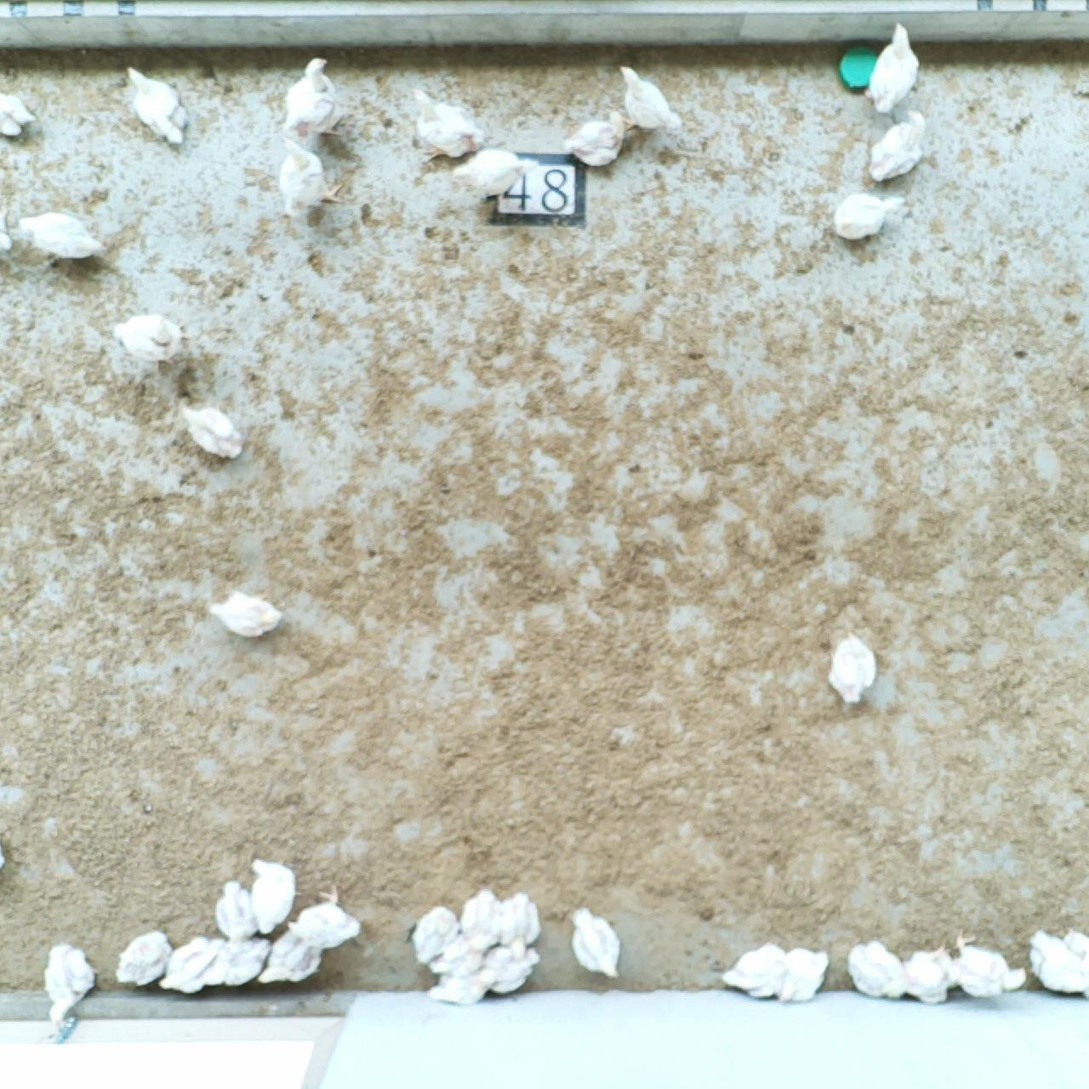chicken: (410, 84, 486, 165), (280, 54, 348, 140), (276, 134, 340, 222), (863, 21, 922, 116), (950, 929, 1029, 998), (124, 63, 190, 145), (40, 940, 98, 1029), (14, 208, 110, 260), (447, 145, 539, 198), (867, 107, 929, 183), (290, 886, 362, 951), (1026, 926, 1089, 1000), (618, 64, 684, 132), (112, 310, 192, 365), (159, 932, 229, 994), (824, 630, 880, 707), (568, 903, 623, 981), (719, 940, 789, 1001), (204, 587, 285, 639), (180, 402, 248, 463), (845, 939, 911, 1001), (261, 927, 325, 990), (832, 189, 907, 242), (248, 856, 298, 935), (563, 109, 631, 167), (424, 962, 499, 1012), (900, 940, 956, 1006), (477, 941, 544, 996), (113, 928, 174, 988), (777, 945, 831, 1005), (413, 904, 462, 966), (459, 886, 505, 952), (212, 879, 259, 938), (497, 890, 542, 951), (1, 91, 39, 137), (1, 205, 16, 254)
